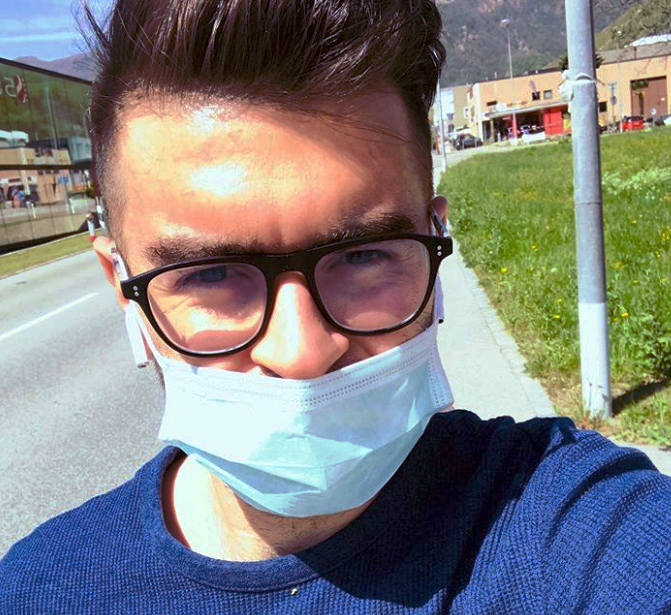mask_weared_incorrect: (82, 43, 458, 525)
